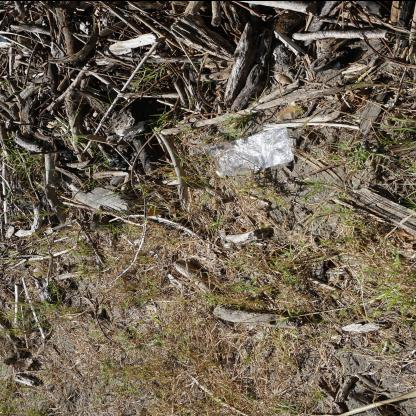plastik: (210, 125, 294, 175)
